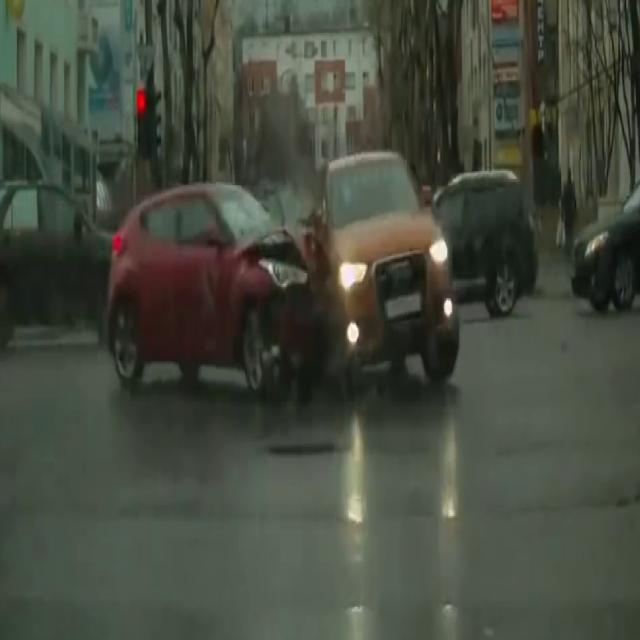accident: (125, 160, 458, 425)
